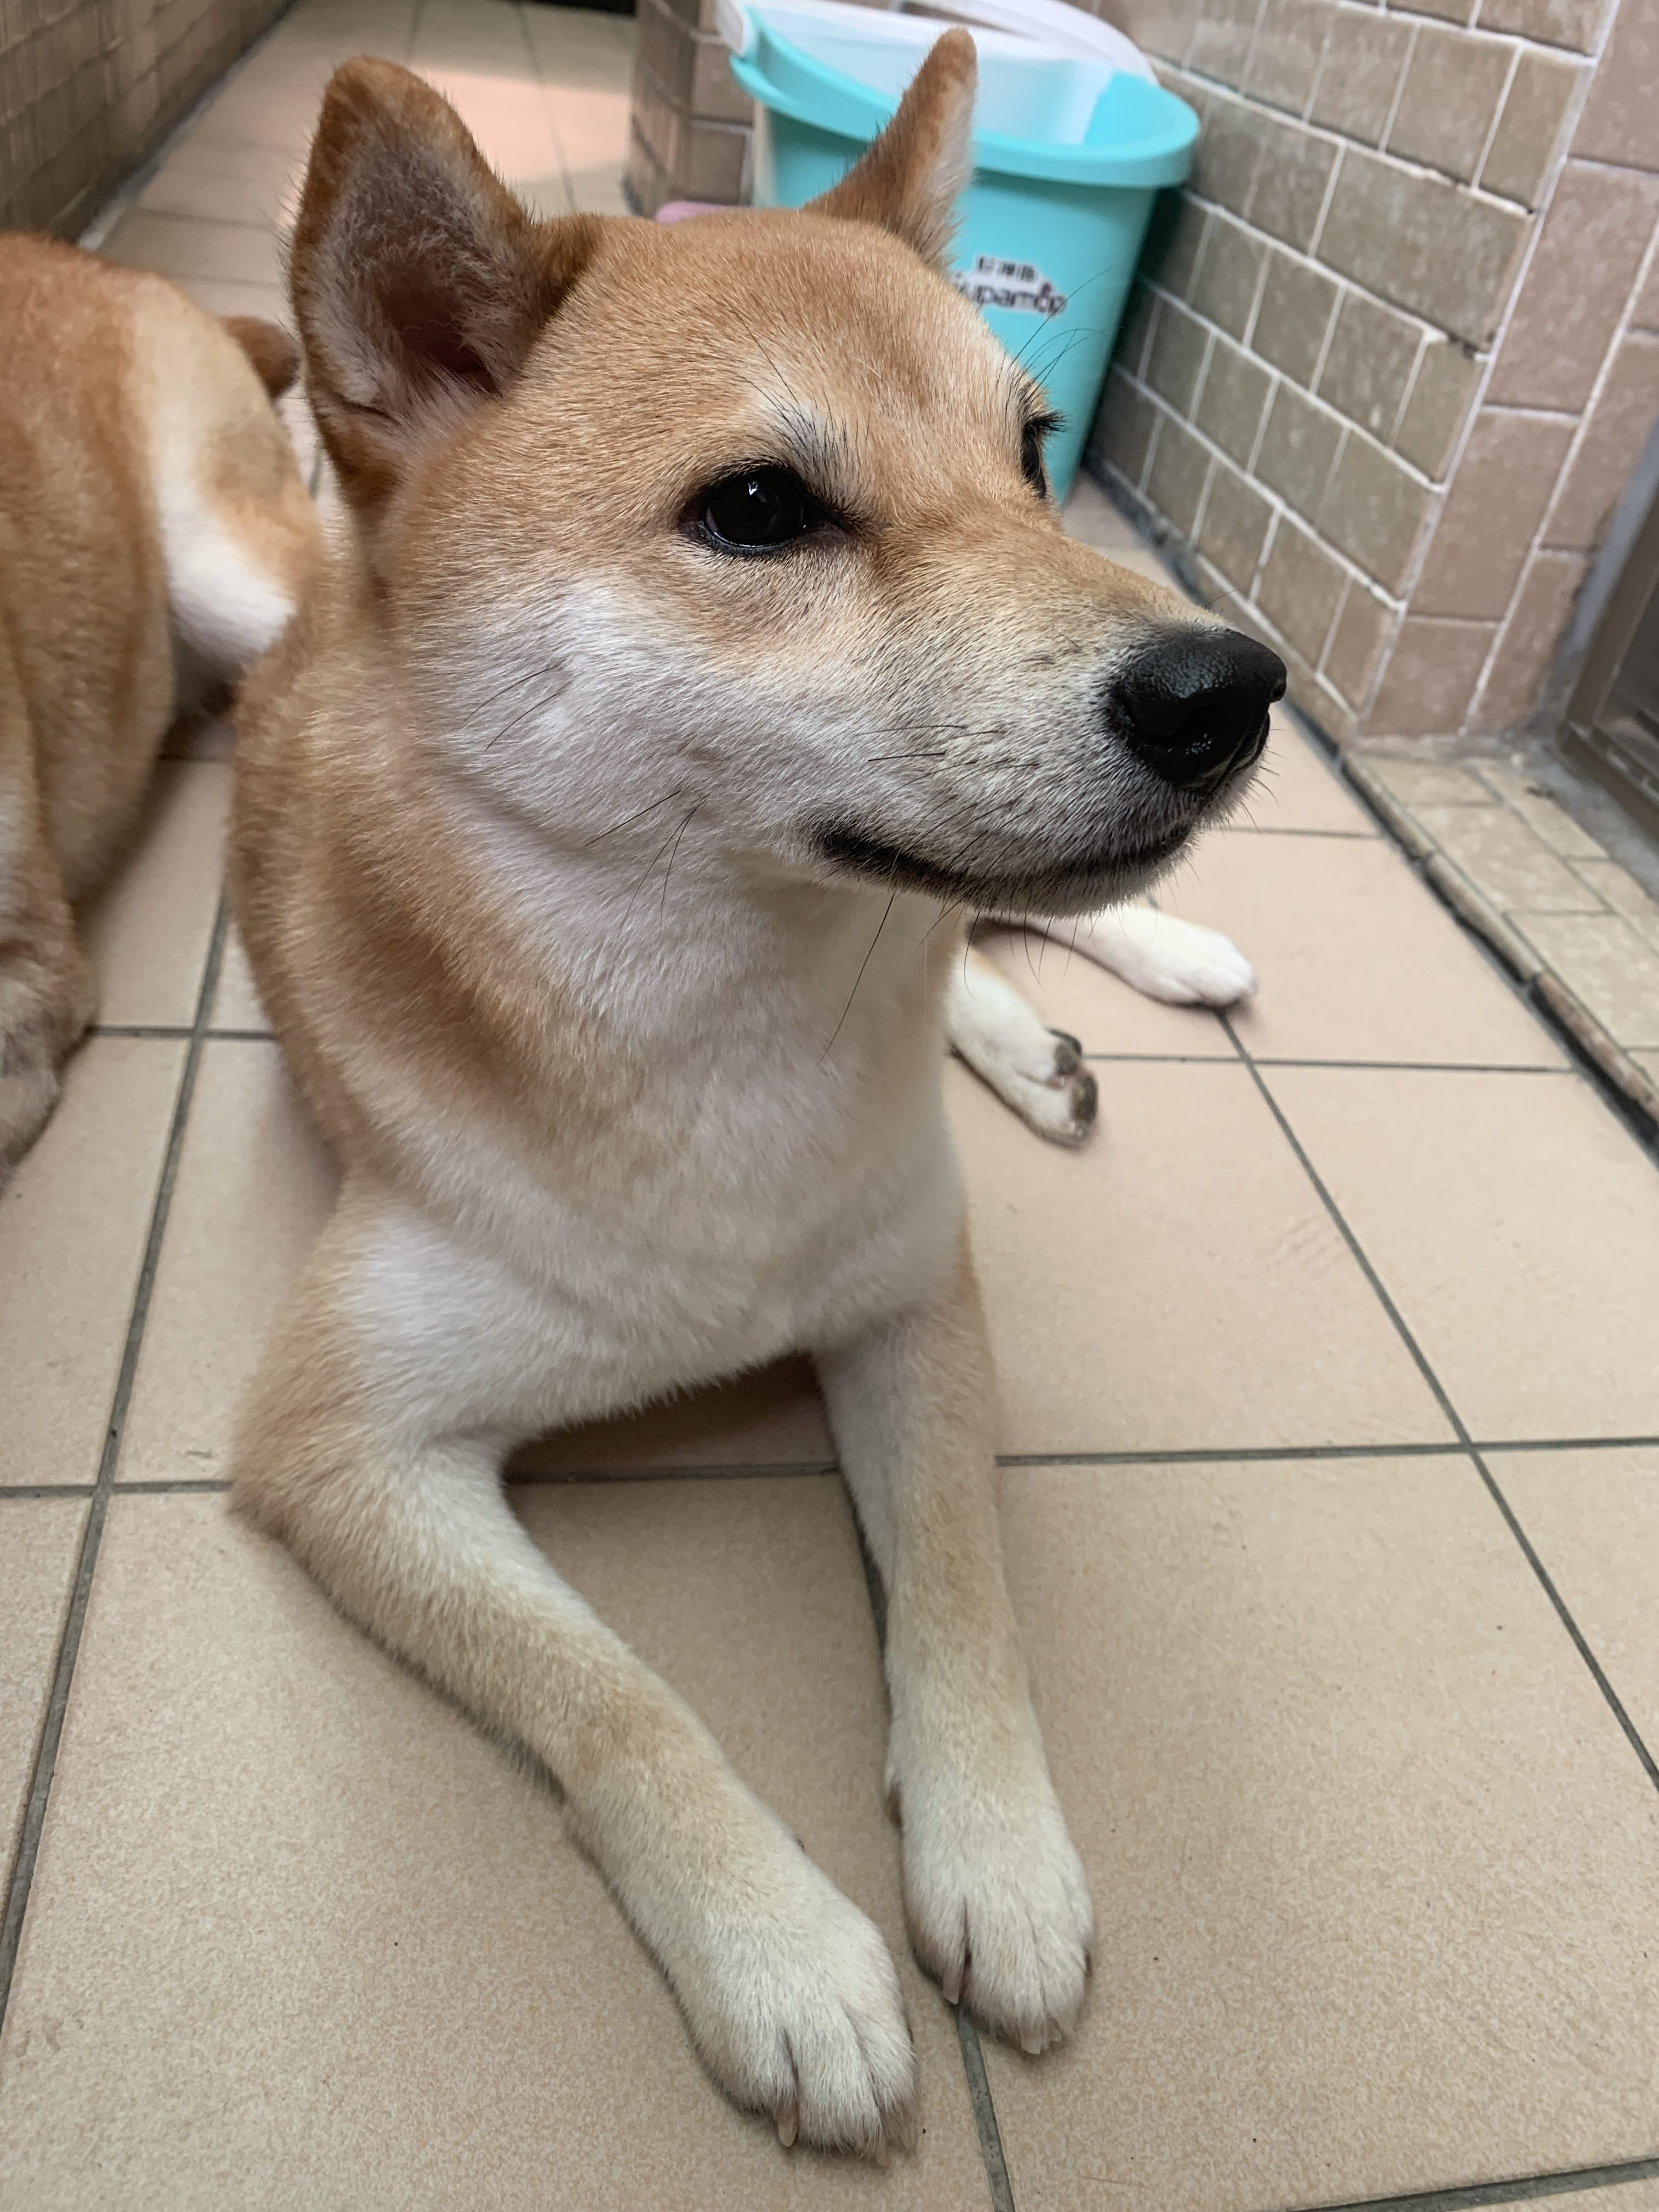Get down: (162, 87, 1486, 2161)
